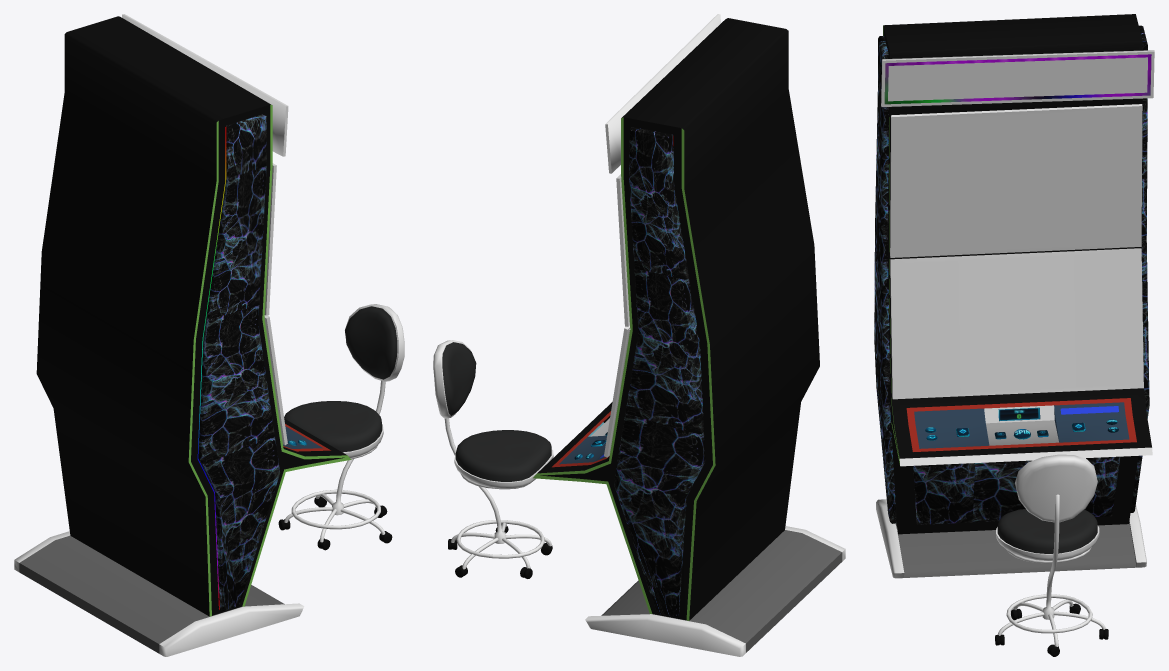
The model's file is SlotAutomatALONG2.fbx.
3 renders of one model, left to right at view 1: azimuth 30°, elevation 25°; view 2: azimuth 150°, elevation 25°; view 3: azimuth 270°, elevation 25°, orthographic.
Visible parts, largest first — view 1: SlotMashine.002, GameChair.025, UVScrollObjectAutomat.028; view 2: SlotMashine.002, GameChair.025; view 3: SlotMashine.002, GameChair.025.
Part boxes in pixels (x1,y1,x2,y2): SlotMashine.002: (14, 14, 351, 656); GameChair.025: (278, 304, 404, 550); UVScrollObjectAutomat.028: (197, 127, 226, 609); SlotMashine.002: (533, 14, 845, 656); GameChair.025: (433, 340, 553, 578); SlotMashine.002: (874, 14, 1154, 578); GameChair.025: (995, 454, 1108, 656).
Size of the model in its own units: 202 by 294 by 146.
Materials: 9 (5 with a texture image).
